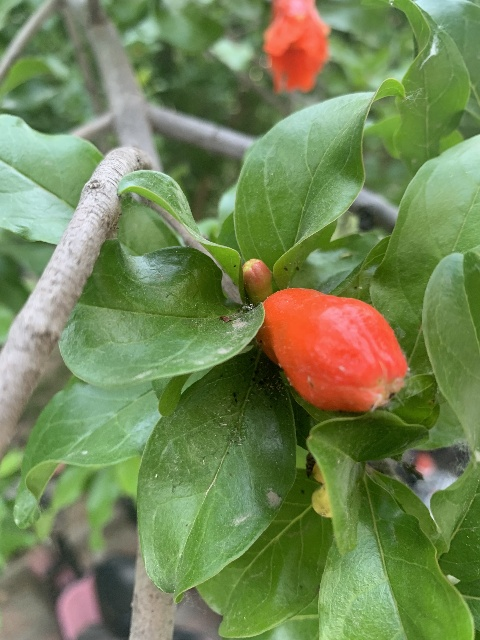bud: (256, 287, 407, 413), (242, 258, 272, 302)
flower: (262, 0, 331, 94)
